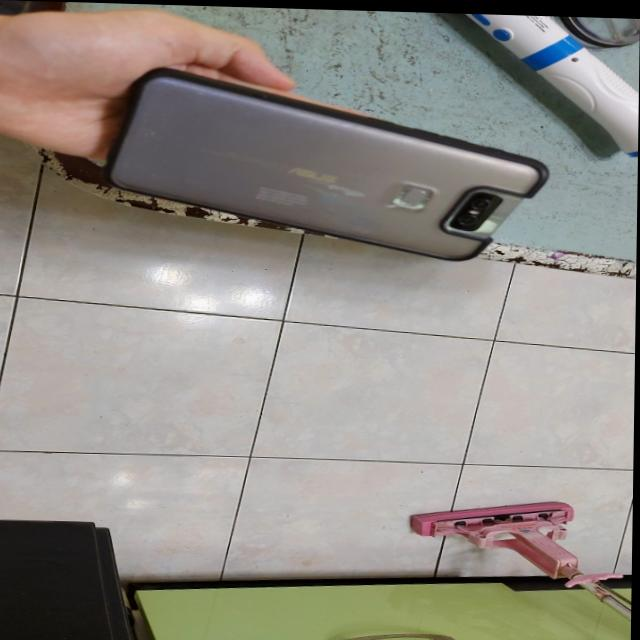Smartphone: (99, 61, 549, 261)
